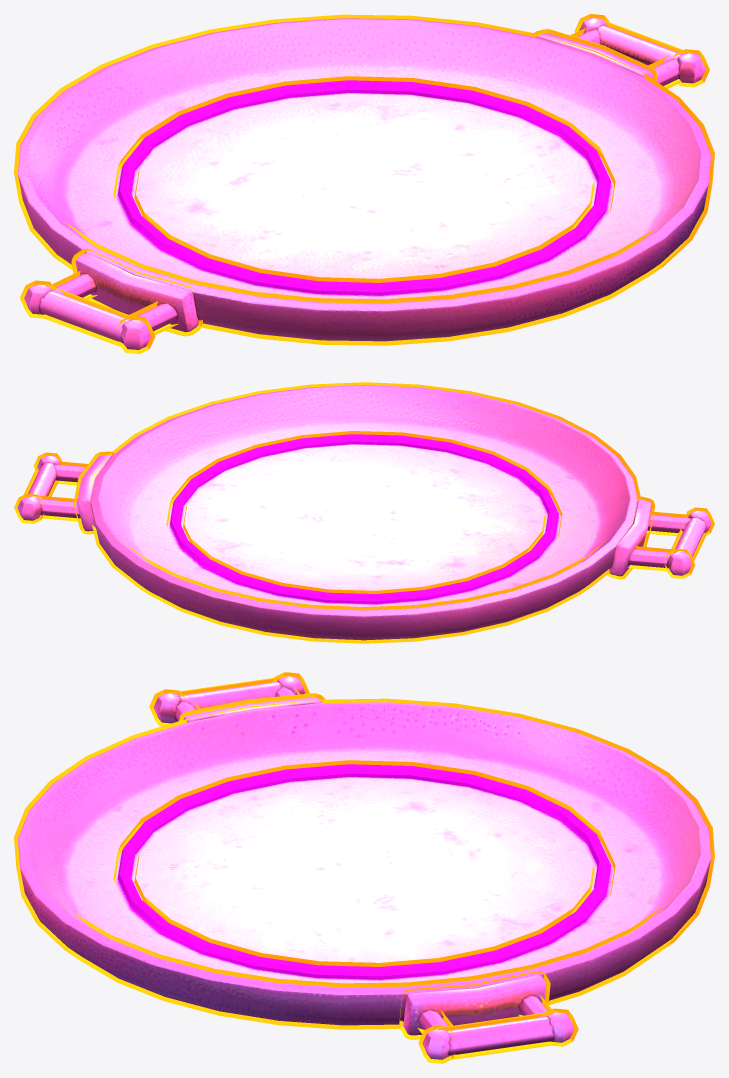
The model's file is Gold_Platter.glb.
3 renders of one model, top to bottom at view 1: azimuth 30°, elevation 25°; view 2: azimuth 150°, elevation 25°; view 3: azimuth 270°, elevation 25°, orthographic. The views are drawn at different scales.
Parts seen in each view (by area): view 1: Platter_Plate, Platter_Plate.001; view 2: Platter_Plate, Platter_Plate.001; view 3: Platter_Plate, Platter_Plate.001.
Part boxes in pixels (box(x1,y1,x2,y2)): Platter_Plate: box(18, 18, 710, 349); Platter_Plate.001: box(14, 14, 714, 353); Platter_Plate: box(17, 385, 711, 640); Platter_Plate.001: box(14, 382, 714, 643); Platter_Plate: box(18, 676, 710, 1059); Platter_Plate.001: box(14, 672, 714, 1063).
Size of the model in its own units: 0.525 by 0.0369 by 0.4203.
2 materials, 1 textured.
